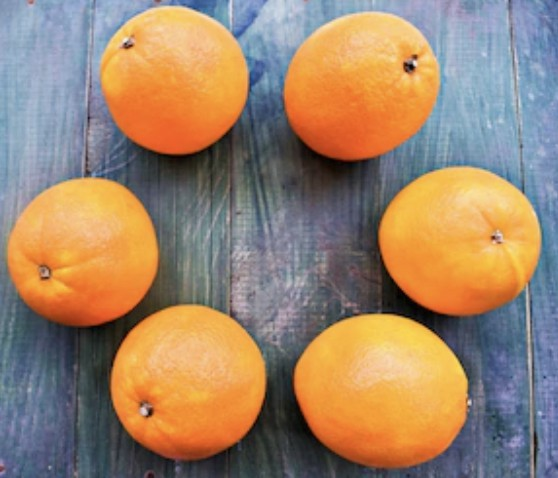fresh_orange: (292, 312, 468, 464), (381, 167, 550, 316), (287, 10, 436, 160), (113, 308, 267, 452), (102, 5, 249, 153), (15, 177, 161, 320)
